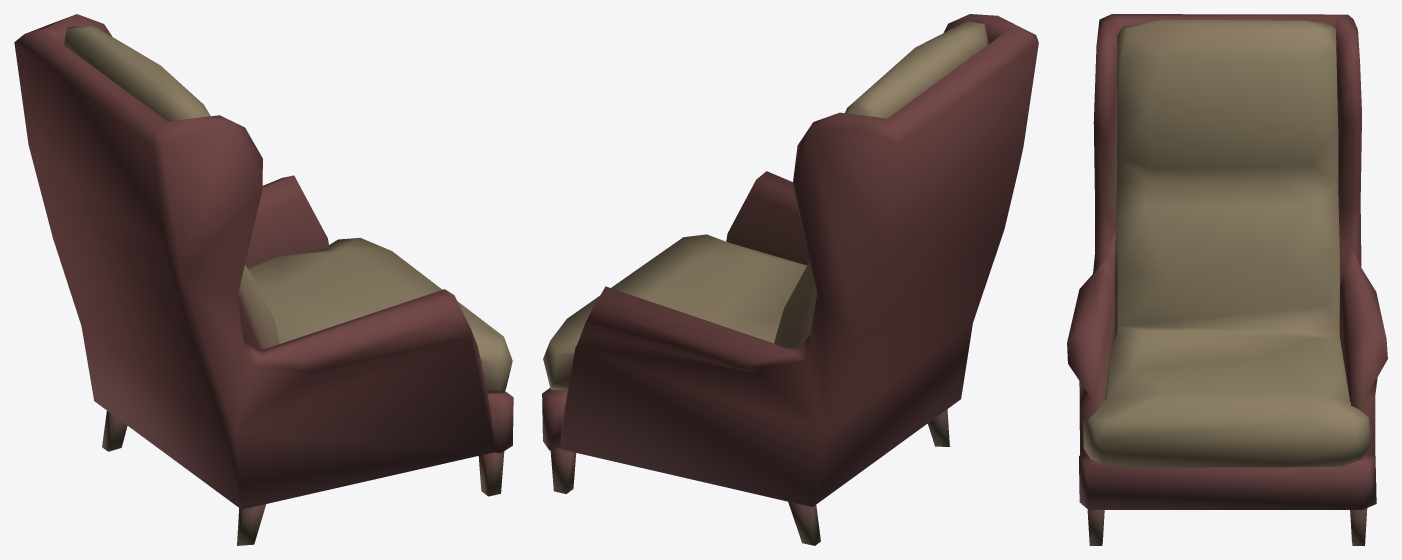
File: FancyChair.fbx
3 views of the same model, side by side, from view 1: azimuth 30°, elevation 25°; view 2: azimuth 150°, elevation 25°; view 3: azimuth 270°, elevation 25° (orthographic). The views are drawn at different scales.
Visible parts, largest first — view 1: Cushion; view 2: Cushion; view 3: Cushion.
Boxes of the visible parts, x1=… form: Cushion: x1=14, y1=14, x2=513, y2=545; Cushion: x1=542, y1=14, x2=1038, y2=545; Cushion: x1=1067, y1=14, x2=1387, y2=545.
Bounding box in the file's own units: 971 × 1164 × 849.
